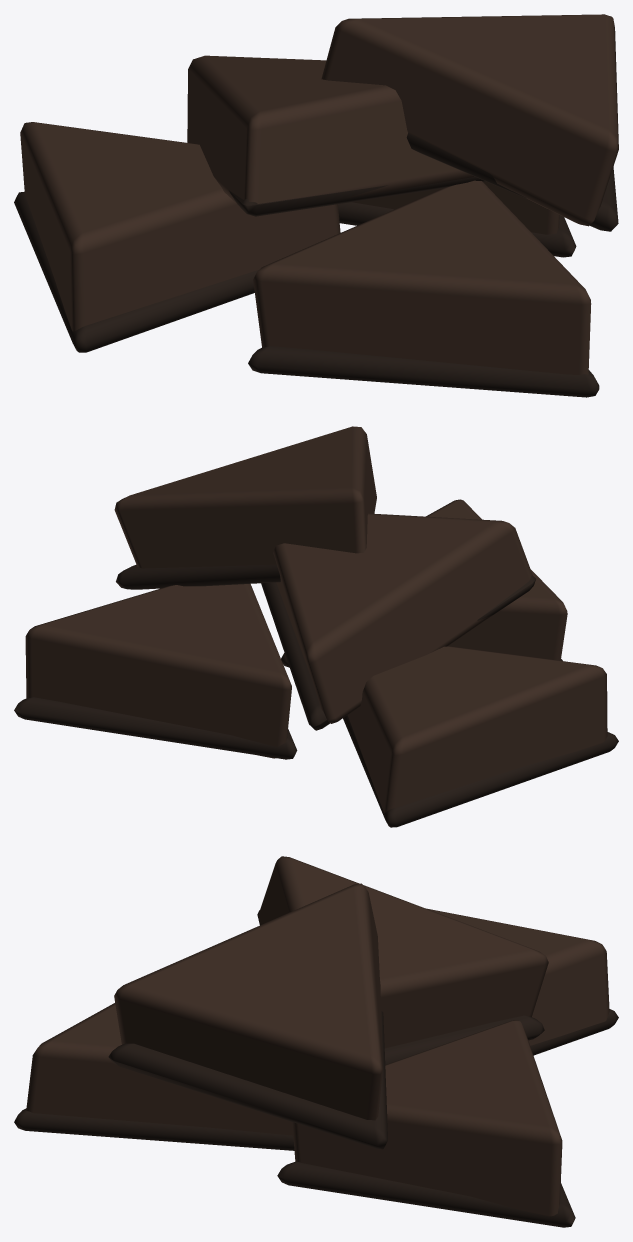
Rendered from Tofu_Burnt.glb.
3 renders of one model, top to bottom at view 1: azimuth 30°, elevation 25°; view 2: azimuth 150°, elevation 25°; view 3: azimuth 270°, elevation 25°, orthographic. The views are drawn at different scales.
Visible parts, largest first — view 1: Tofu_Burnt; view 2: Tofu_Burnt; view 3: Tofu_Burnt.
Boxes of the visible parts, x1,y1,x2,y2 form: Tofu_Burnt: (14,14,618,397); Tofu_Burnt: (14,426,618,827); Tofu_Burnt: (14,856,618,1227).
Size of the model in its own units: 0.1348 by 0.0574 by 0.1381.
